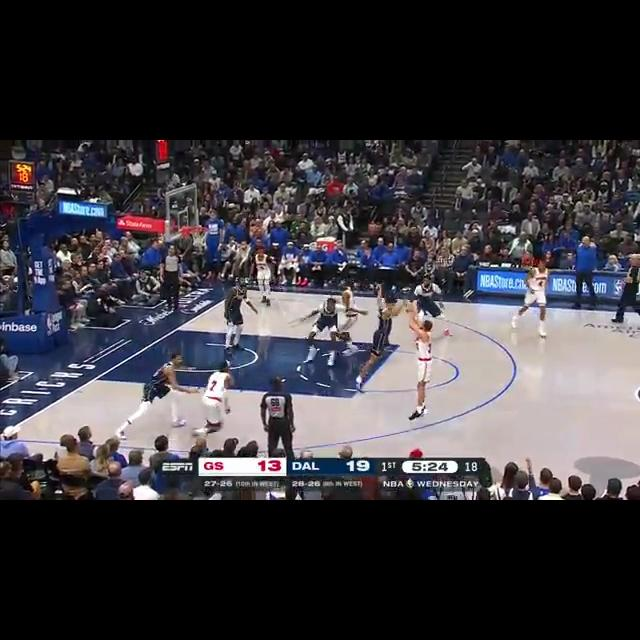Ball: (362, 220, 383, 238)
Team-1-Player: (112, 350, 196, 448), (344, 284, 416, 396), (272, 300, 373, 368), (211, 274, 259, 356), (398, 268, 452, 334)
Team-2-Player: (392, 296, 446, 426), (182, 357, 245, 448), (508, 253, 558, 344), (329, 278, 363, 350), (244, 246, 278, 308)
